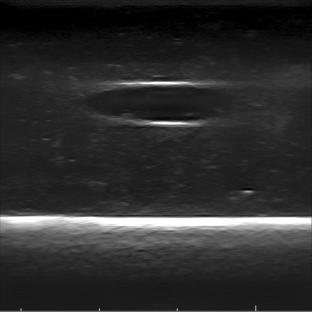vessel: (85, 80, 236, 128)
